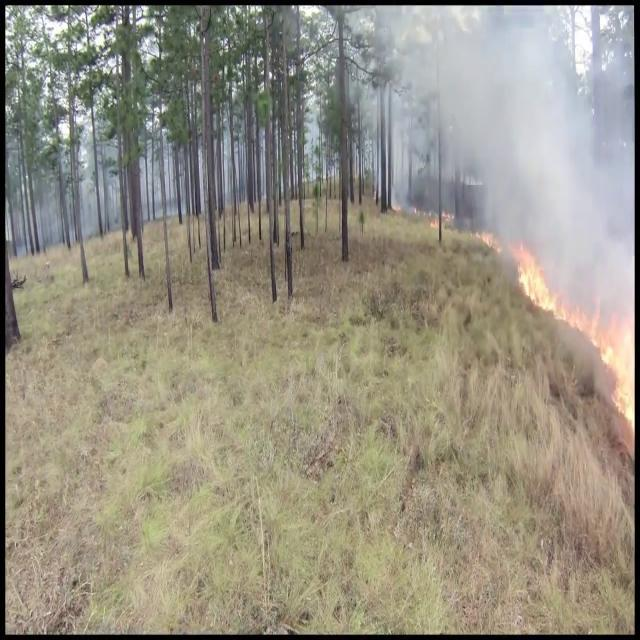Fire: (512, 238, 588, 330), (595, 306, 635, 449), (511, 238, 556, 318)
Smoke: (388, 4, 634, 290)
